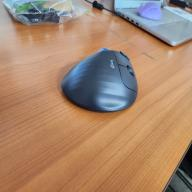mouse: (58, 41, 138, 114)
